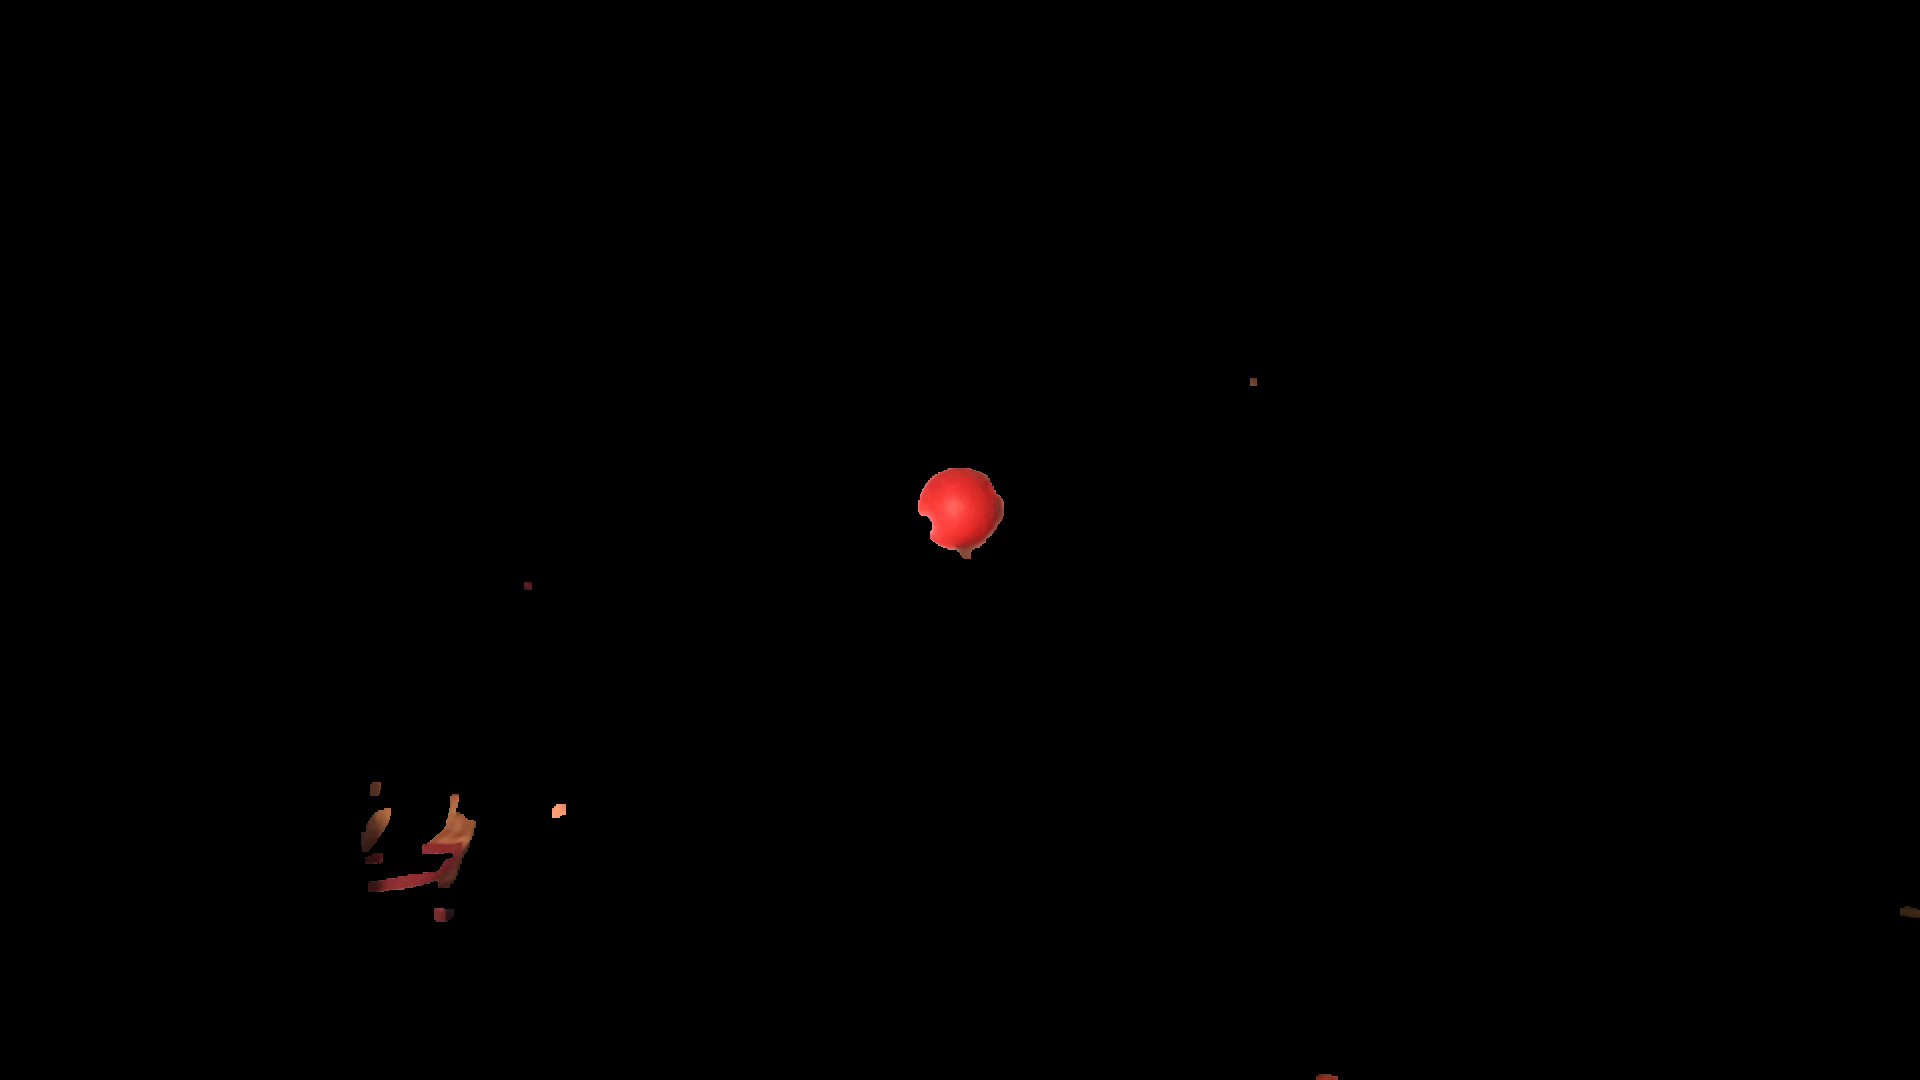Ball: (918, 465, 1004, 549)
